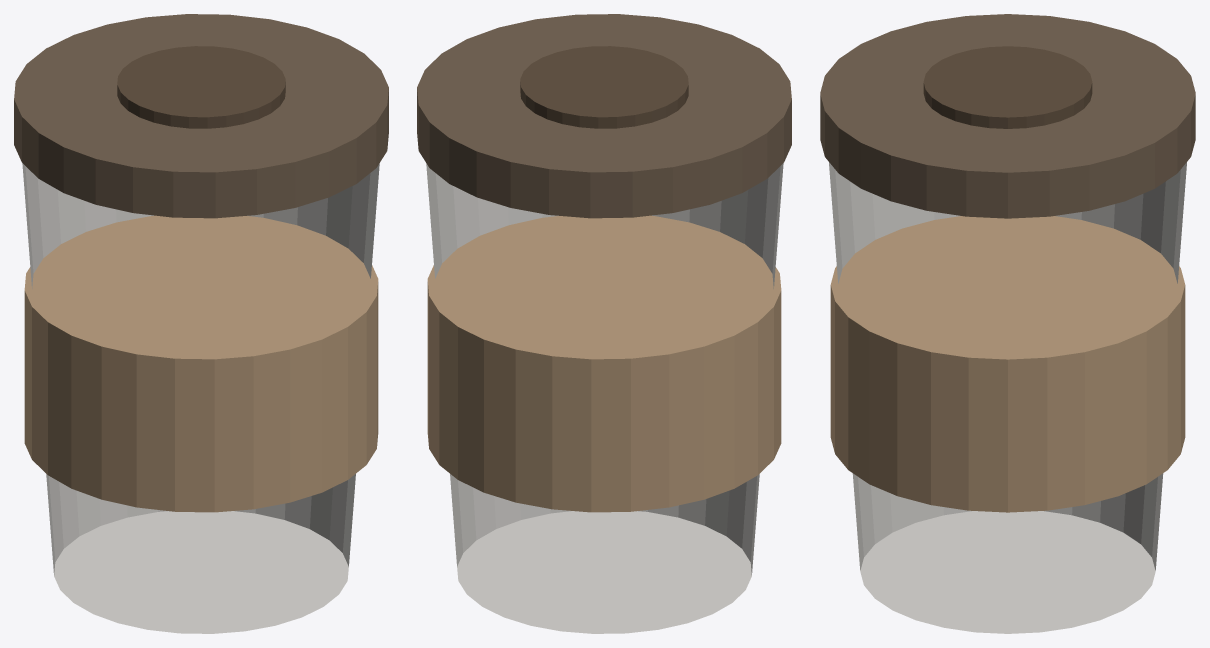
Rendered from coffee-cup.glb.
3 views of the same model, side by side, from view 1: azimuth 30°, elevation 25°; view 2: azimuth 150°, elevation 25°; view 3: azimuth 270°, elevation 25° (orthographic).
Visible parts, largest first — view 1: geometry_3, geometry_1, geometry_0, geometry_2; view 2: geometry_3, geometry_1, geometry_0, geometry_2; view 3: geometry_3, geometry_1, geometry_0, geometry_2.
Part boxes in pixels (box(x1,y1,x2,y2)): geometry_3: box(24, 215, 378, 512); geometry_1: box(14, 14, 388, 218); geometry_0: box(22, 163, 379, 633); geometry_2: box(117, 46, 285, 128); geometry_3: box(427, 215, 781, 512); geometry_1: box(417, 14, 791, 218); geometry_0: box(426, 163, 783, 633); geometry_2: box(520, 46, 688, 128); geometry_3: box(830, 216, 1185, 512); geometry_1: box(820, 14, 1195, 218); geometry_0: box(829, 162, 1186, 633); geometry_2: box(923, 46, 1092, 128).
Size of the model in its own units: 0.089 by 0.128 by 0.089.
